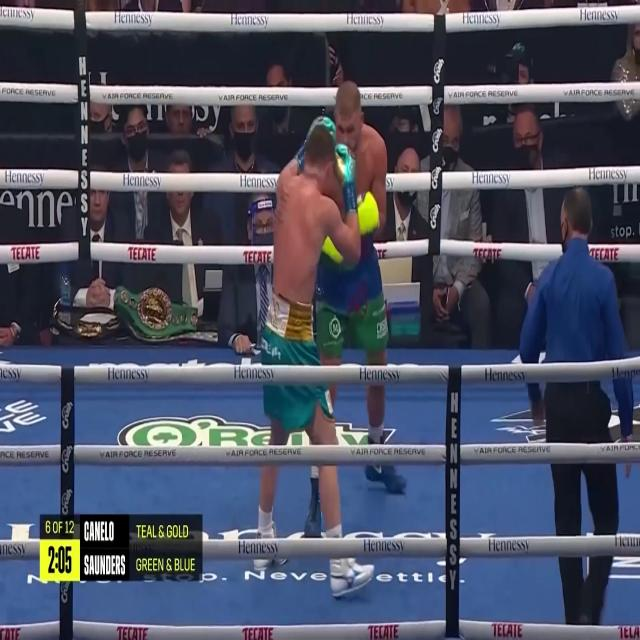boxer_1: (336, 81, 372, 191), (326, 162, 345, 220)
boxer_2: (274, 126, 333, 303)
gloves_1: (358, 191, 379, 235), (322, 235, 343, 264)
gloves_2: (297, 119, 356, 214)
